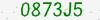0: (20, 1, 31, 17)
3: (52, 1, 63, 17)
5: (73, 1, 84, 17)
7: (42, 1, 52, 17)
8: (32, 1, 41, 17)
J: (63, 1, 73, 17)
